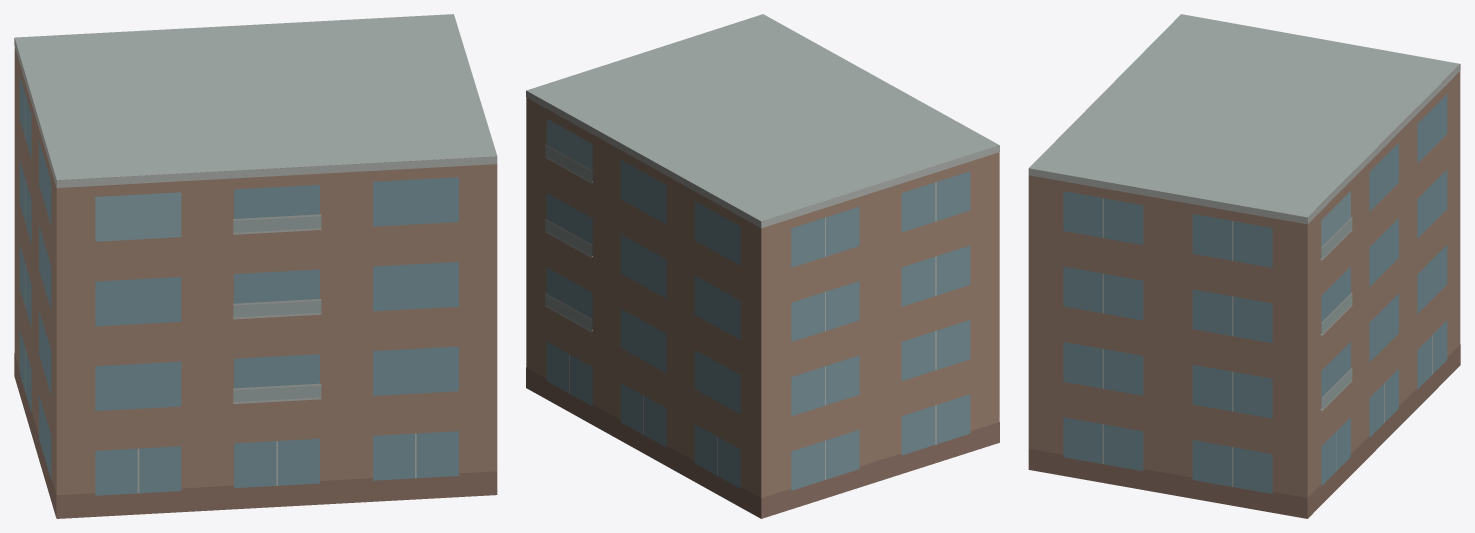
File: survey-upis-33039355.glb
3 views of the same model, side by side, from view 1: azimuth 30°, elevation 25°; view 2: azimuth 150°, elevation 25°; view 3: azimuth 270°, elevation 25° (orthographic). The views are drawn at different scales.
Visible parts, largest first — view 1: survey-upis-33039355.tmp; view 2: survey-upis-33039355.tmp; view 3: survey-upis-33039355.tmp.
Part boxes in pixels (bbox=[...]): survey-upis-33039355.tmp: bbox=[14, 14, 497, 518]; survey-upis-33039355.tmp: bbox=[526, 14, 999, 518]; survey-upis-33039355.tmp: bbox=[1028, 14, 1460, 518].
Bounding box in the file's own units: 15.28 × 10.55 × 13.7.
